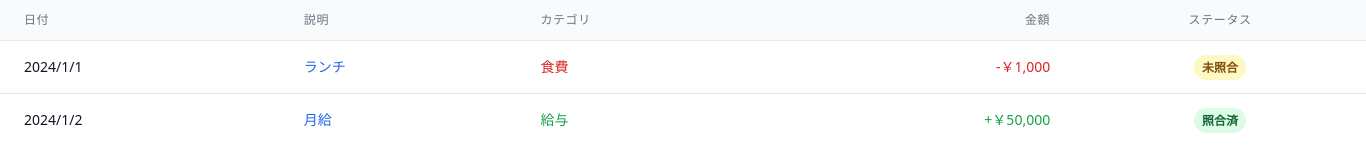
TransactionList › カテゴリクリックで編集モードになる
This screenshot has width=1366, height=161.
Step 1. Click the button "食費" → (554, 67), box [540,57,568,77]
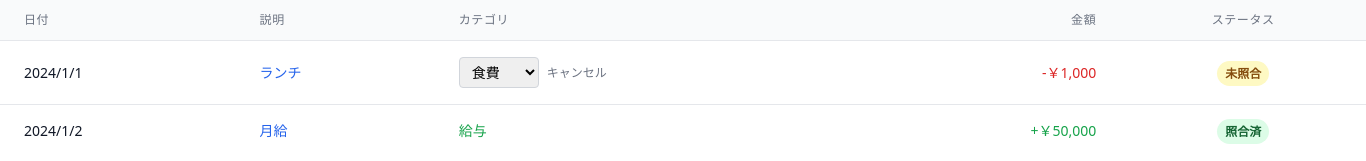
Now the dropdown is shown, box [459,57,539,88]
Now the button "キャンセル" is shown, box [547,64,607,80]
